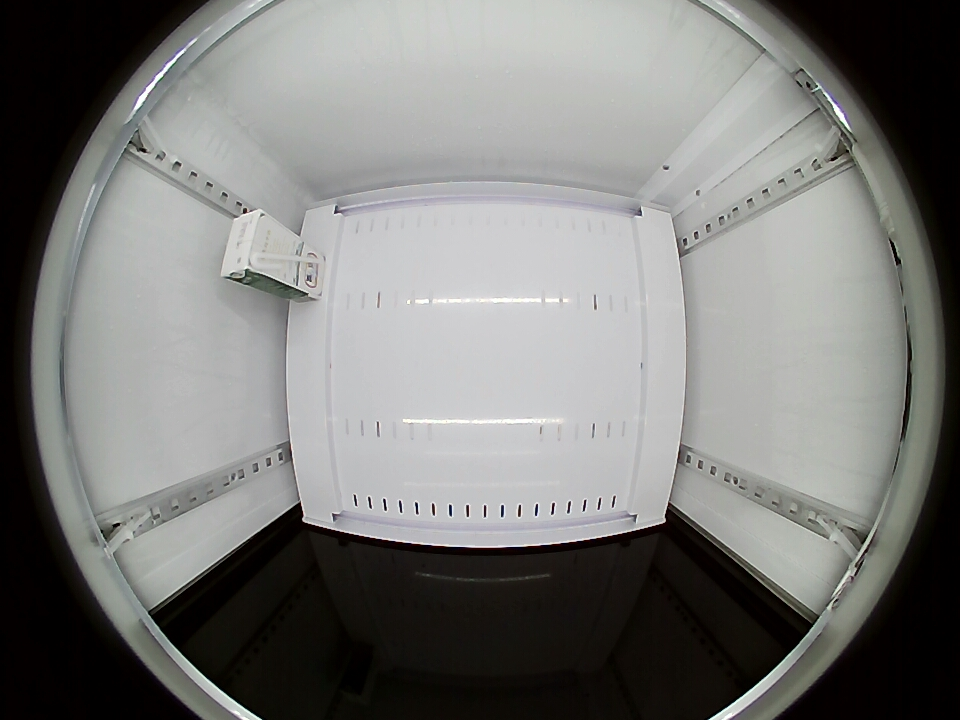jindian: (220, 209, 281, 286)
